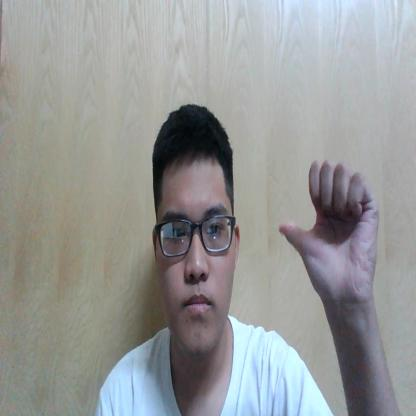right: (280, 159, 382, 293)
